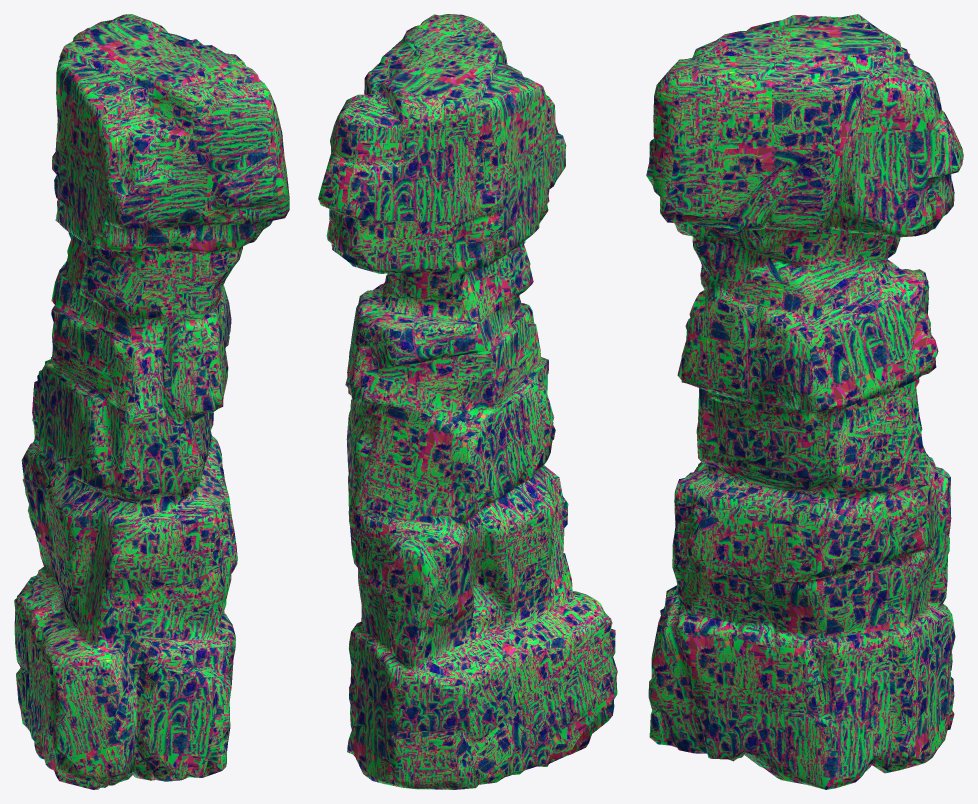
File: SM_Rock1.fbx
The picture shows the model from 3 angles, left to right: view 1: azimuth 30°, elevation 25°; view 2: azimuth 150°, elevation 25°; view 3: azimuth 270°, elevation 25°; orthographic projection. The views are drawn at different scales.
Visible parts, largest first — view 1: SM_Rock1_LOD0; view 2: SM_Rock1_LOD0; view 3: SM_Rock1_LOD0.
Boxes of the visible parts, bbox=[...] form: SM_Rock1_LOD0: bbox=[14, 14, 289, 789]; SM_Rock1_LOD0: bbox=[318, 14, 617, 789]; SM_Rock1_LOD0: bbox=[646, 14, 963, 789].
Size of the model in its own units: 284 by 338 by 840.
Materials: 1 (1 with a texture image).
